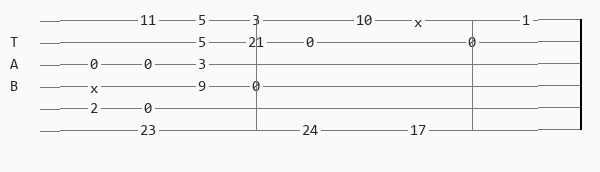0: (90, 57, 102, 71), (144, 101, 156, 115), (144, 57, 156, 71), (252, 79, 264, 93), (306, 35, 318, 49), (468, 35, 480, 49)
1: (522, 13, 534, 27)
10: (356, 13, 376, 27)
11: (140, 13, 160, 27)
17: (410, 123, 430, 137)
2: (90, 101, 102, 115)
21: (248, 35, 268, 49)
23: (140, 123, 160, 137)
24: (302, 123, 322, 137)
3: (198, 57, 210, 71), (252, 13, 264, 27)
5: (198, 13, 210, 27), (198, 35, 210, 49)
9: (198, 79, 210, 93)
x: (90, 81, 102, 92), (414, 15, 426, 26)
